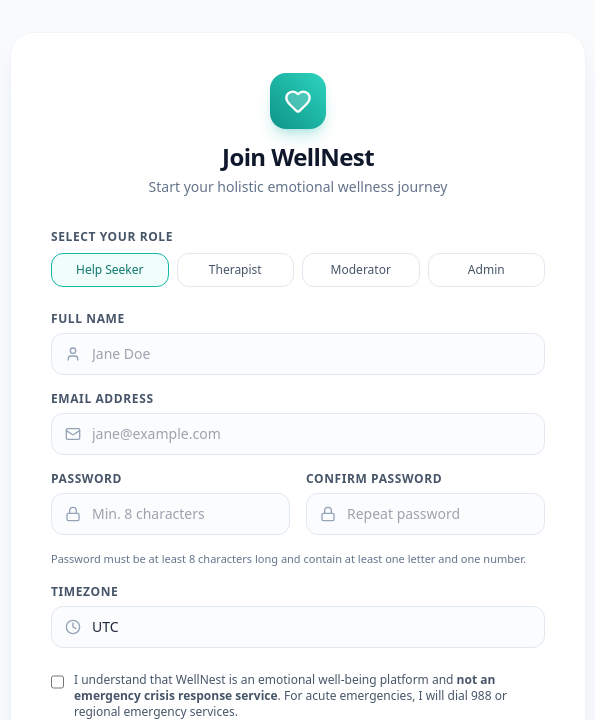
RegisterPage Component › reveals license number and credentials when Therapist role is selected
Click the button "Therapist": (235, 270) [176,253,294,287]
(page scrolled)
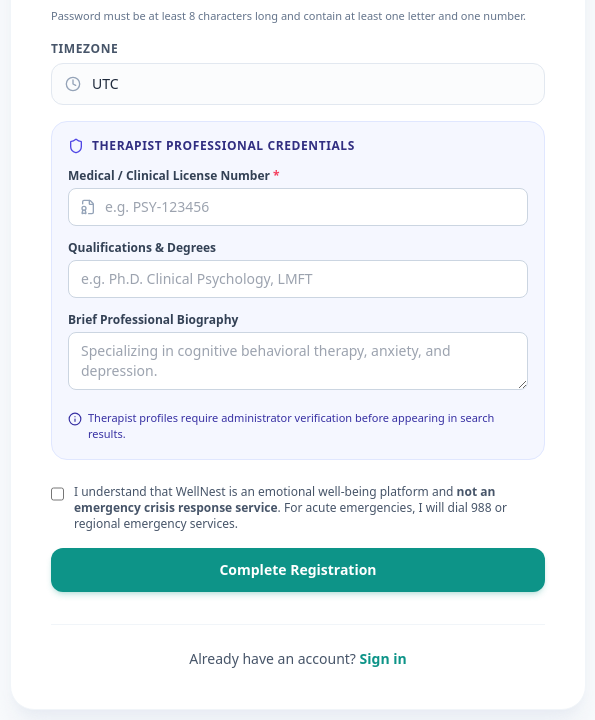
Expected: the field labelled "Medical / Clinical License Number *" is shown, [68,188,528,226]
Expected: the field labelled "Qualifications & Degrees" is shown, [68,260,528,298]
Expected: the text box labelled "Brief Professional Biography" is shown, [68,332,528,390]
